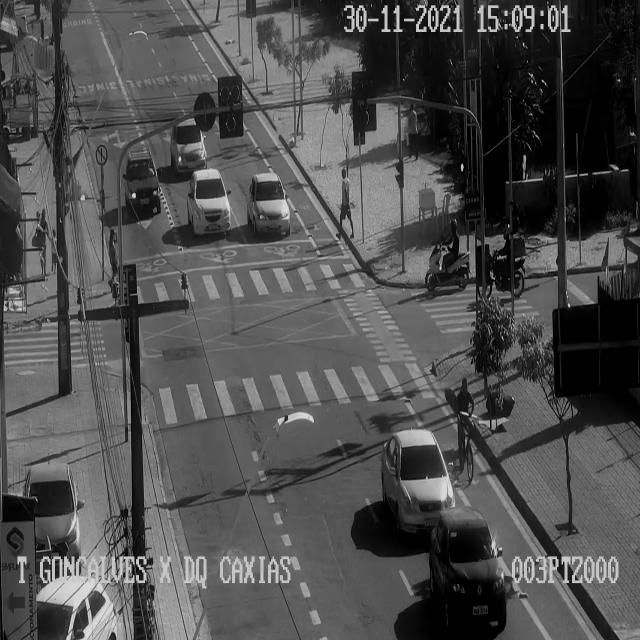Car: (428, 508, 506, 626), (381, 428, 455, 532), (24, 464, 80, 572), (36, 575, 116, 639), (186, 168, 230, 235), (247, 172, 289, 235), (124, 150, 160, 212), (170, 116, 206, 170)
Motorcycle: (476, 223, 524, 297), (425, 218, 469, 290)
